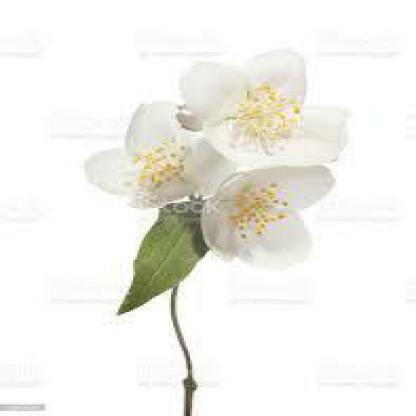Melati: (144, 27, 377, 167), (67, 79, 231, 211), (170, 149, 351, 266)
